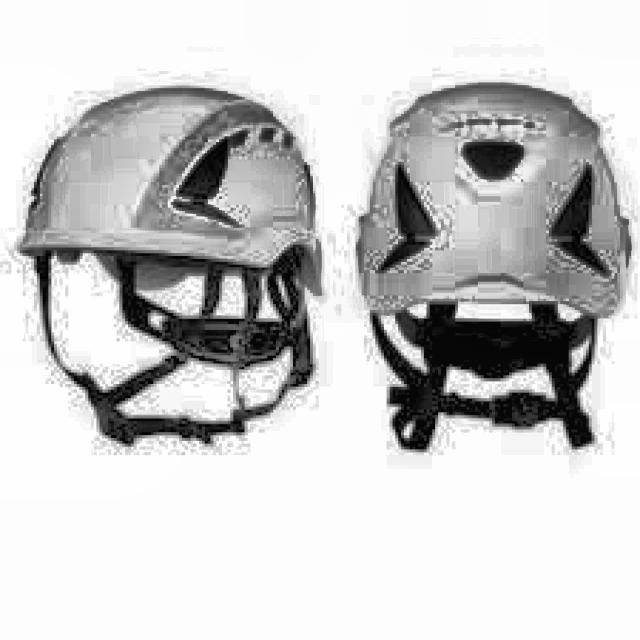Helmet: (16, 74, 334, 484), (353, 88, 627, 474)
